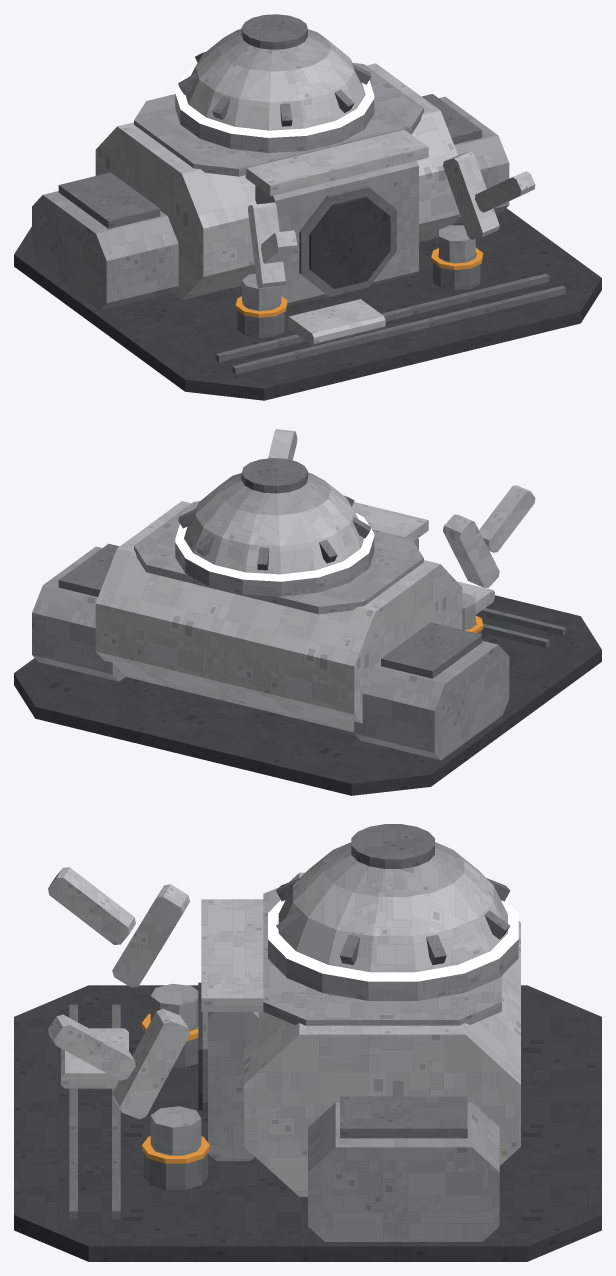
File: rig_shielded_lod2.glb
The picture shows the model from 3 angles, top to bottom: view 1: azimuth 30°, elevation 25°; view 2: azimuth 150°, elevation 25°; view 3: azimuth 270°, elevation 25°; orthographic projection. The views are drawn at different scales.
Parts seen in each view (by area): view 1: rig_shielded_base_body.002, rig_shielded_arm_r_body.002, rig_shielded_arm_l_body.002, rig_shielded_cart_body.002, rig_shielded_base_glow.002, rig_shielded_base_trim.002; view 2: rig_shielded_base_body.002, rig_shielded_arm_l_body.002, rig_shielded_base_glow.002, rig_shielded_arm_r_body.002, rig_shielded_cart_body.002; view 3: rig_shielded_base_body.002, rig_shielded_arm_r_body.002, rig_shielded_arm_l_body.002, rig_shielded_base_glow.002, rig_shielded_cart_body.002, rig_shielded_base_trim.002.
Boxes of the visible parts, <box> form: rig_shielded_base_body.002: <box>14,14,601,400</box>; rig_shielded_arm_r_body.002: <box>439,151,535,262</box>; rig_shielded_arm_l_body.002: <box>242,202,297,310</box>; rig_shielded_cart_body.002: <box>287,299,385,345</box>; rig_shielded_base_glow.002: <box>175,69,374,137</box>; rig_shielded_base_trim.002: <box>235,247,483,317</box>; rig_shielded_base_body.002: <box>14,458,601,795</box>; rig_shielded_arm_l_body.002: <box>443,485,535,629</box>; rig_shielded_base_glow.002: <box>175,512,374,581</box>; rig_shielded_arm_r_body.002: <box>268,429,297,460</box>; rig_shielded_cart_body.002: <box>457,581,494,614</box>; rig_shielded_base_body.002: <box>14,824,601,1261</box>; rig_shielded_arm_r_body.002: <box>48,1009,201,1155</box>; rig_shielded_arm_l_body.002: <box>48,867,198,1030</box>; rig_shielded_base_glow.002: <box>268,900,518,981</box>; rig_shielded_cart_body.002: <box>61,1028,128,1088</box>; rig_shielded_base_trim.002: <box>141,1013,209,1163</box>.
Size of the model in its own units: 2.9 by 1.5 by 2.76.
3 materials, 1 textured.
